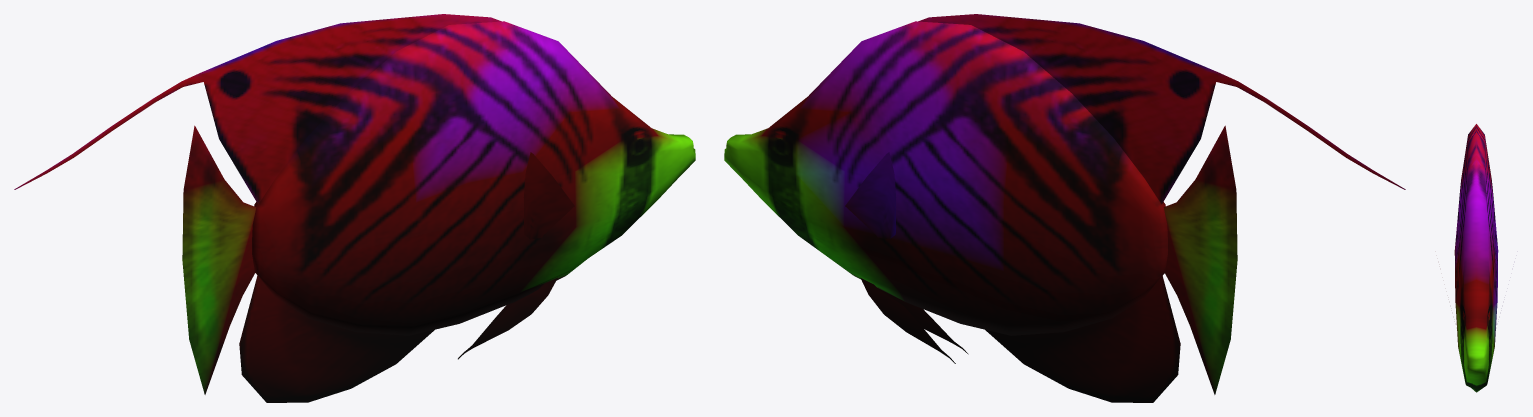
The model's file is threadfin_butterflyfish.glb.
The picture shows the model from 3 angles, left to right: view 1: azimuth 30°, elevation 25°; view 2: azimuth 150°, elevation 25°; view 3: azimuth 270°, elevation 25°; orthographic projection. The views are drawn at different scales.
Visible parts, largest first — view 1: ThreadfinButterflyfish; view 2: ThreadfinButterflyfish; view 3: ThreadfinButterflyfish.
Part boxes in pixels (x1,y1,x2,y2): ThreadfinButterflyfish: (14, 14, 695, 402); ThreadfinButterflyfish: (724, 14, 1405, 402); ThreadfinButterflyfish: (1454, 124, 1498, 392).
Size of the model in its own units: 1 by 0.5212 by 0.1388.
Materials: 1 (1 with a texture image).
